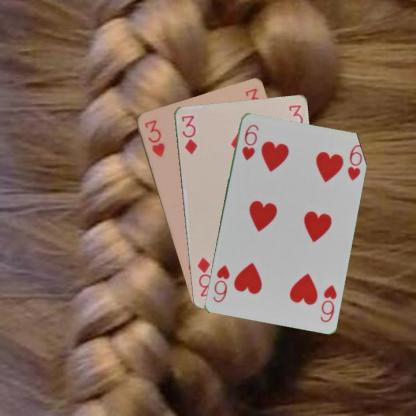3d: (178, 112, 198, 156)
3h: (141, 117, 166, 158)
6h: (317, 282, 338, 324), (240, 122, 260, 162)
